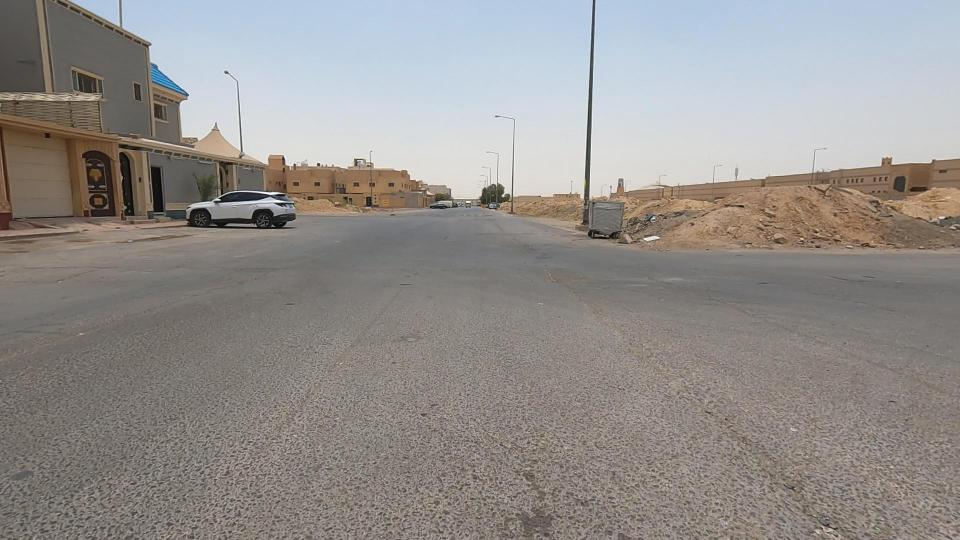GARBAGE: (580, 202, 689, 270)
SAND_ON_ROAD: (653, 152, 796, 276), (754, 147, 871, 255)
